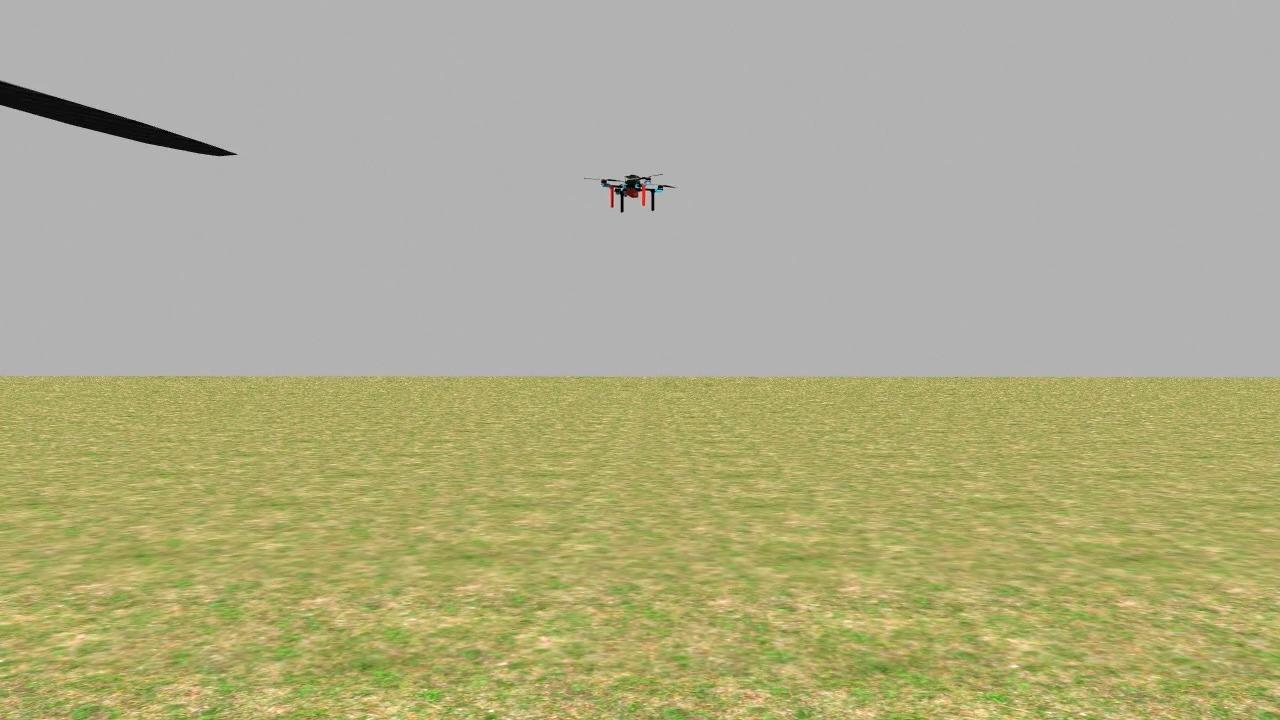UAV: (592, 165, 676, 216)
